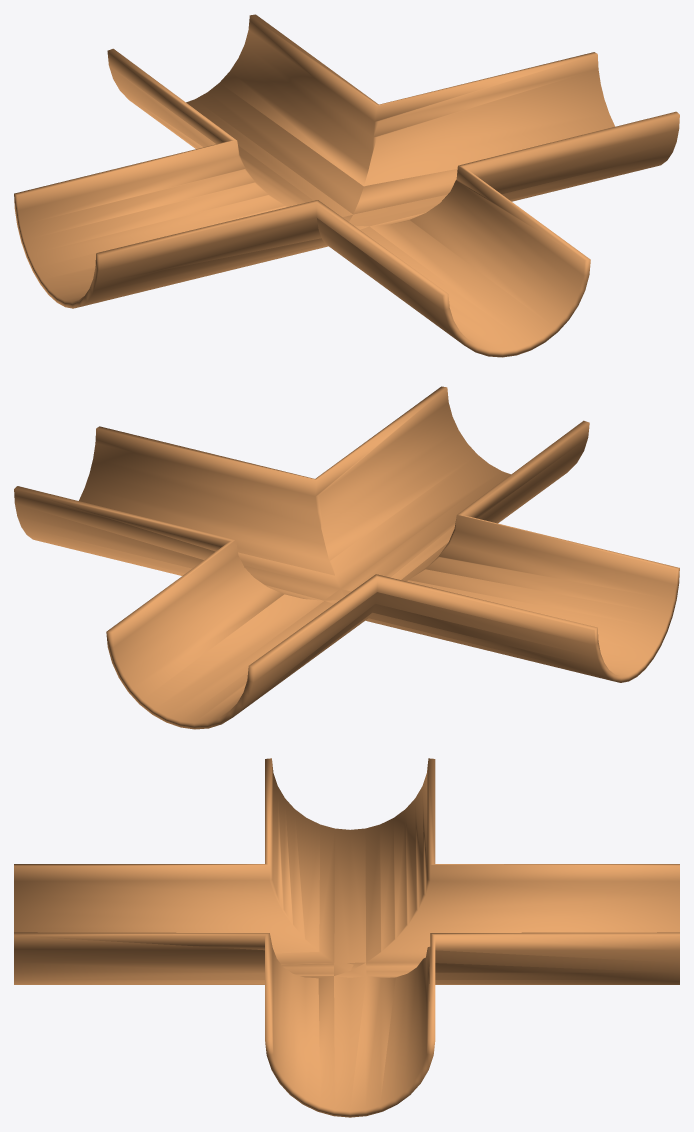
File: WAY +.fbx
3 renders of one model, top to bottom at view 1: azimuth 30°, elevation 25°; view 2: azimuth 150°, elevation 25°; view 3: azimuth 270°, elevation 25°, orthographic.
Visible parts, largest first — view 1: Sphere.004; view 2: Sphere.004; view 3: Sphere.004.
Part boxes in pixels (x1,y1,x2,y2): Sphere.004: (14,14,679,357); Sphere.004: (14,386,679,729); Sphere.004: (14,758,679,1117).
Size of the model in its own units: 3692 by 477 by 3692.
